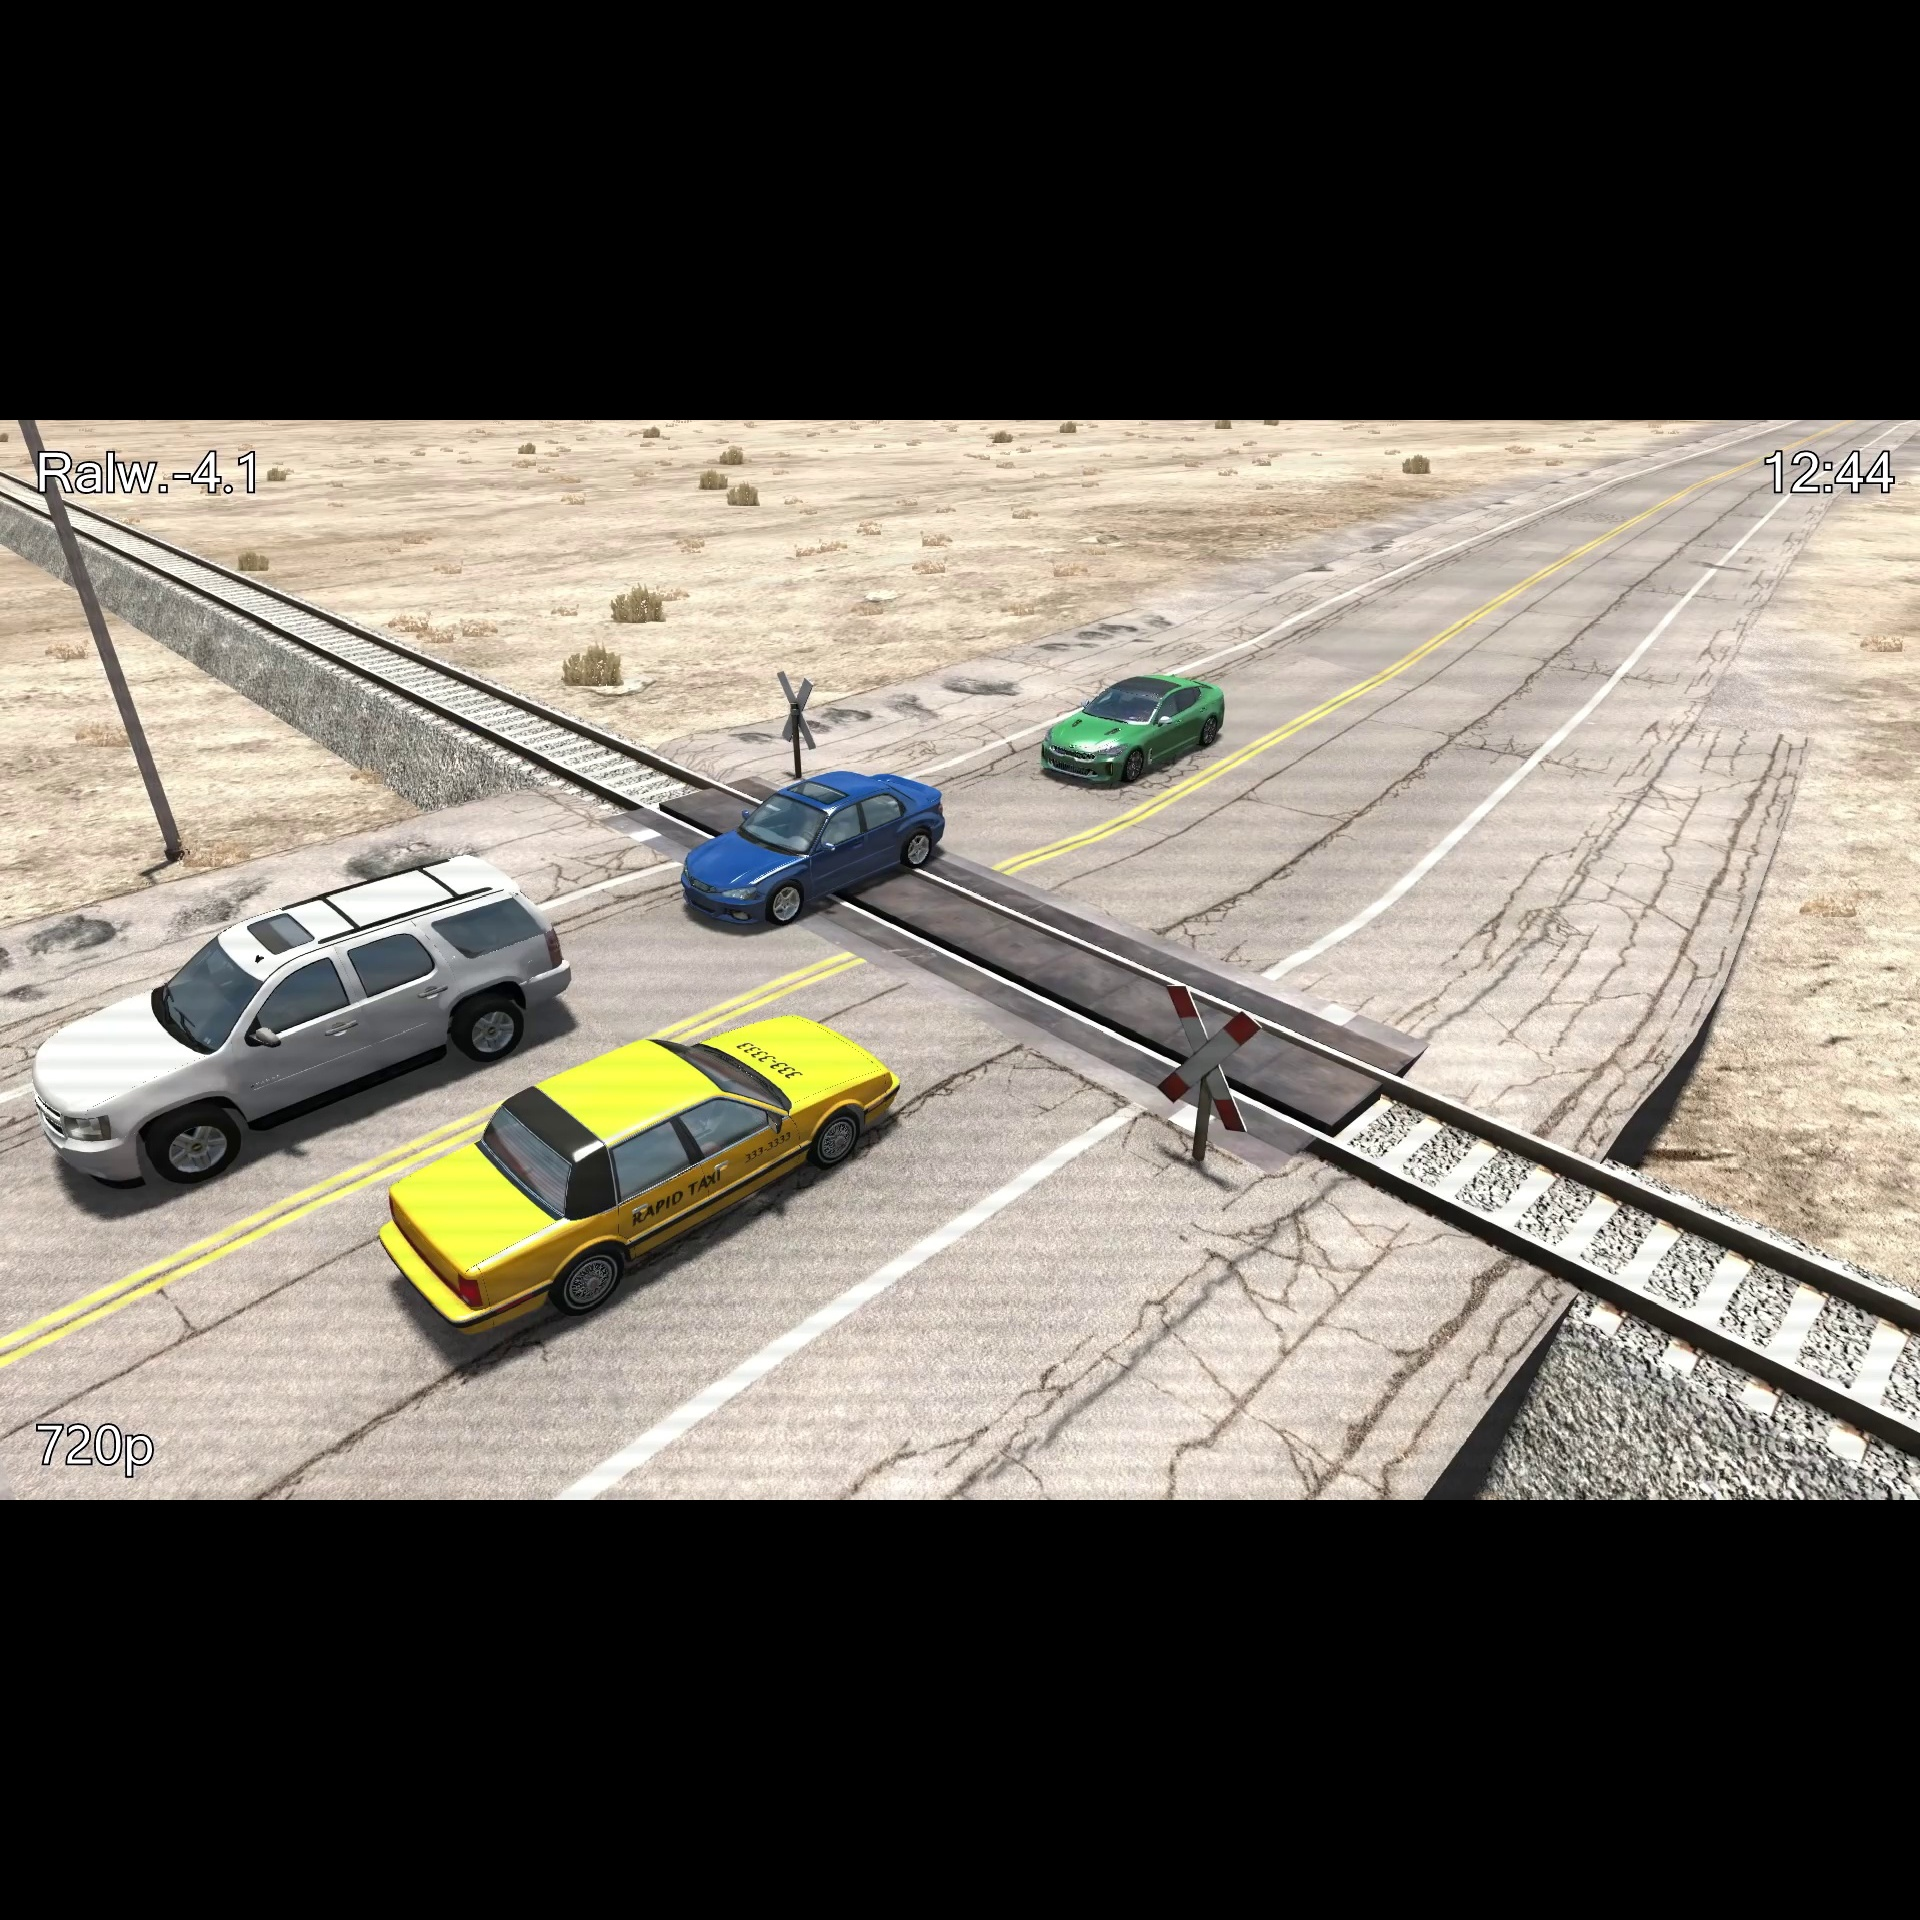vehicle: (23, 847, 577, 1206), (375, 995, 920, 1350), (673, 768, 953, 937), (1030, 668, 1234, 791)
